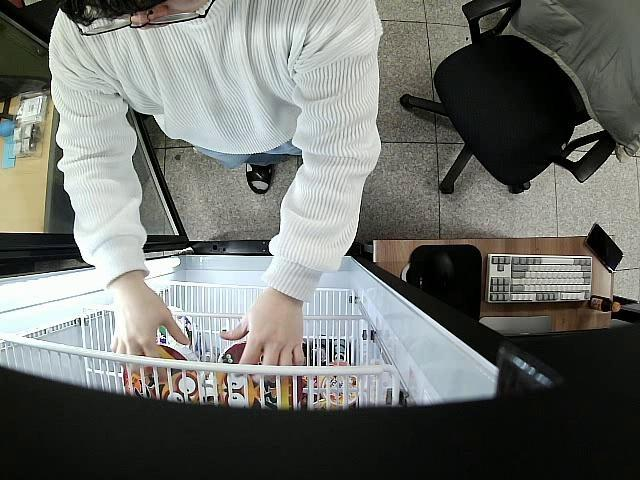05_nuguri_L: (217, 344, 307, 415), (122, 345, 202, 408)
